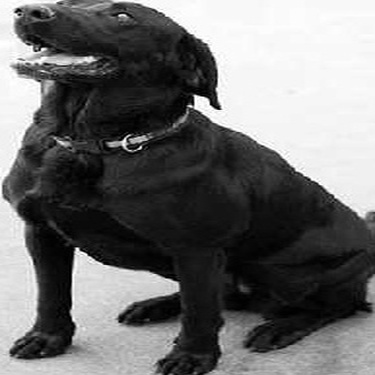dog: (2, 2, 370, 374)
